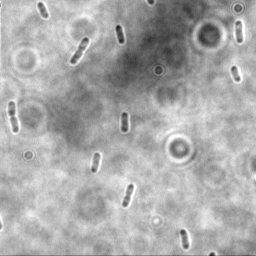Dividing: (68, 37, 91, 66), (7, 100, 19, 134), (121, 183, 135, 209)
Rod: (233, 20, 245, 45), (90, 151, 102, 175), (36, 2, 51, 20), (178, 229, 190, 250), (229, 65, 241, 84), (114, 25, 125, 45), (120, 111, 129, 133)
